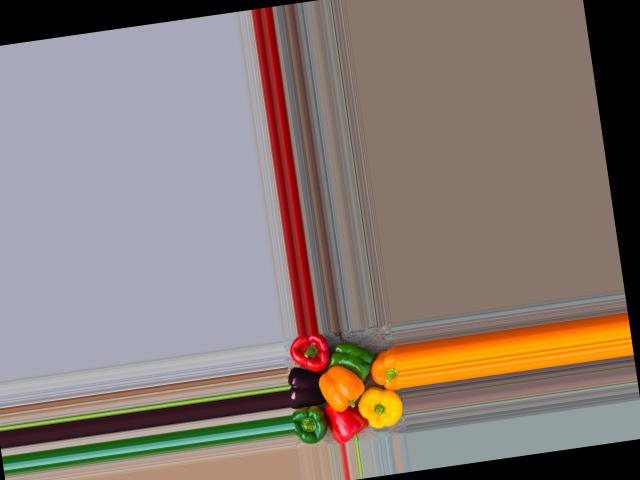bell_pepper: (357, 336, 400, 393)
